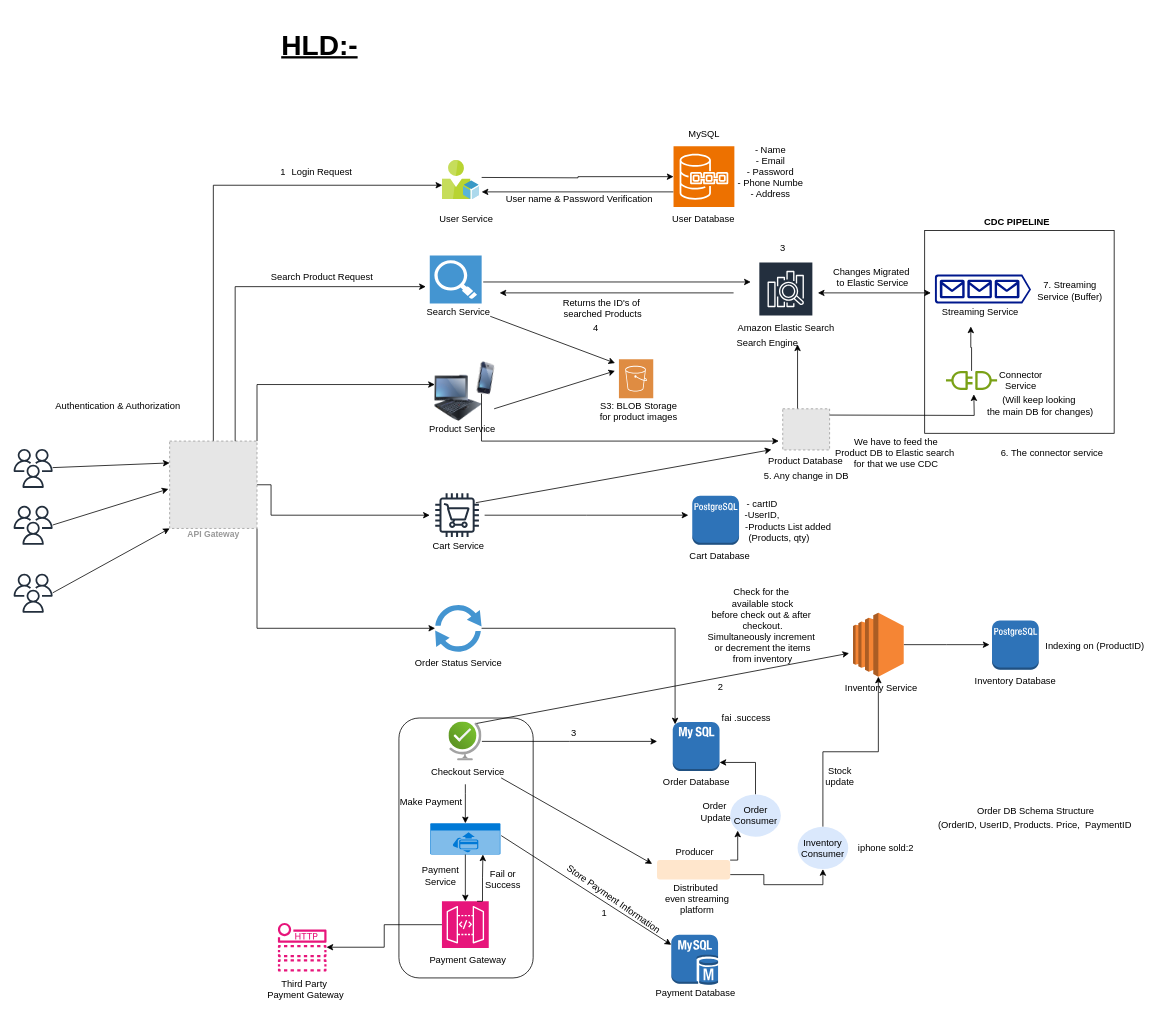
Image size: 1167x1018. Some labels were removed from this diagram. Grey dashed boxes stand in for pictures. The centre of each missing label's shape, as x and y in pixels:
"KAFKA" goes at point 693,869.
"Payment" goes at point 465,838.
